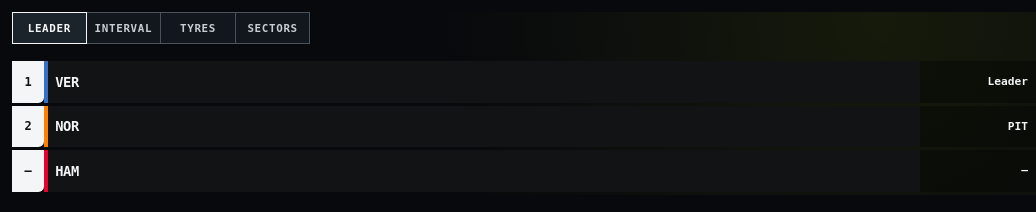
renders the selected tyre image and sampled tyre age in Tyres mode
Click the button "Tyres": (198, 28) [161,12,236,44]
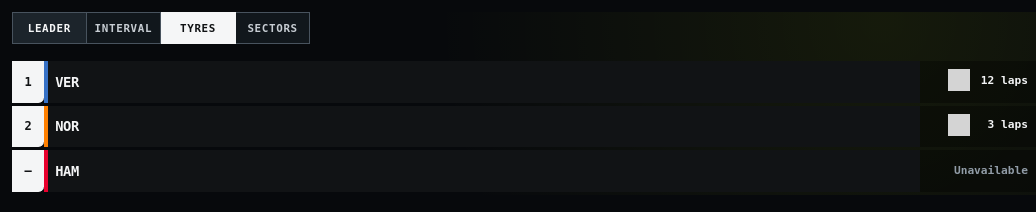
expect the text "12 laps" is shown: met, box [976,74,1028,87]
expect the text "3 laps" is shown: met, box [988,118,1028,131]
